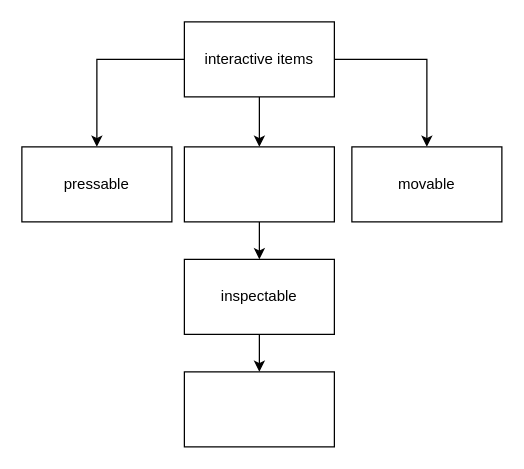
Some shapes in this 524 by 469 pixel diagram are drawn without their labels. The shapes that lost their labels are listed below. From the top down, each one's centre as x and y in pixels, then its label:
pixel 258 184: grabable
pixel 258 409: slotPlaceable
